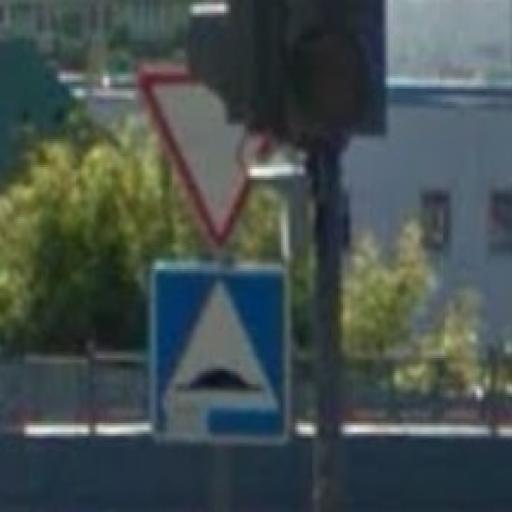traffic_sign: (146, 259, 296, 452), (135, 66, 282, 251)
